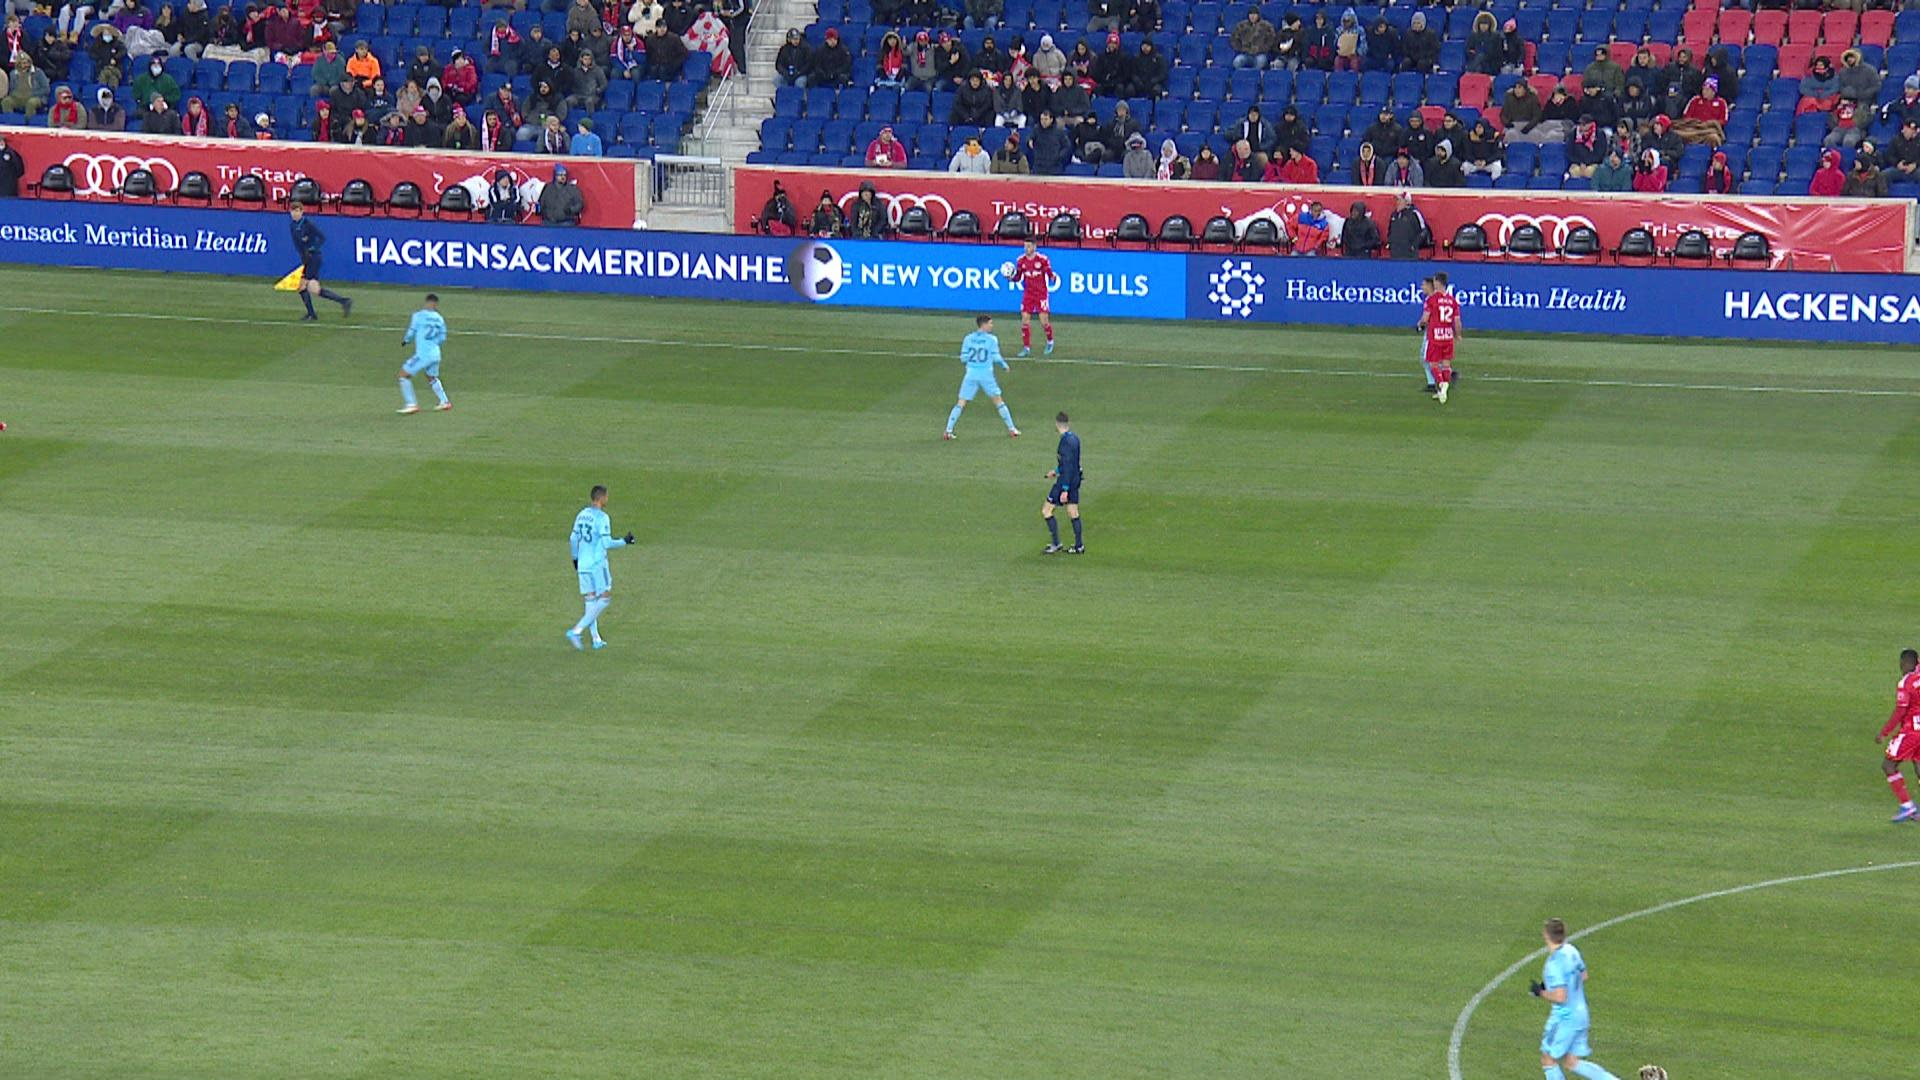football: (1001, 262, 1015, 276)
